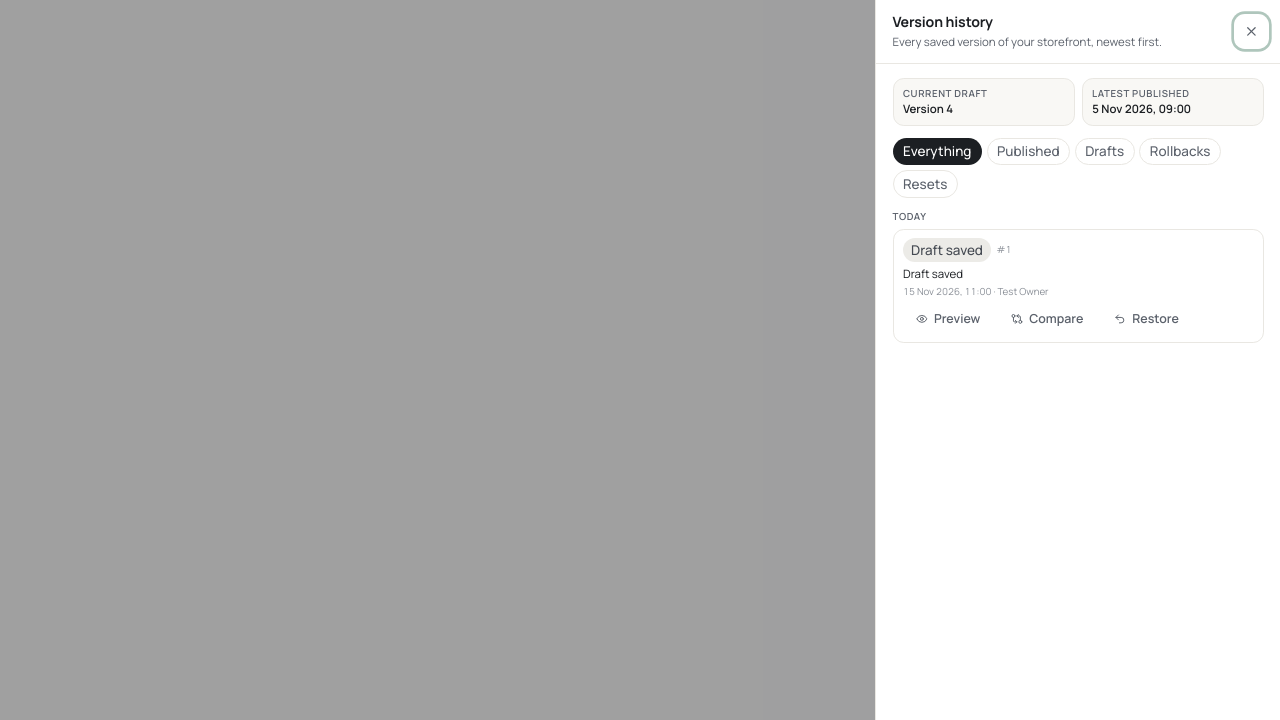
Test: RevisionHistoryPanel › keeps the dialog open and explains itself when a restore is refused
What coordinates should you click on to do the following:
click the button "Restore"
I would click on:
 (1147, 318)
Its box is [1101,303,1192,334].
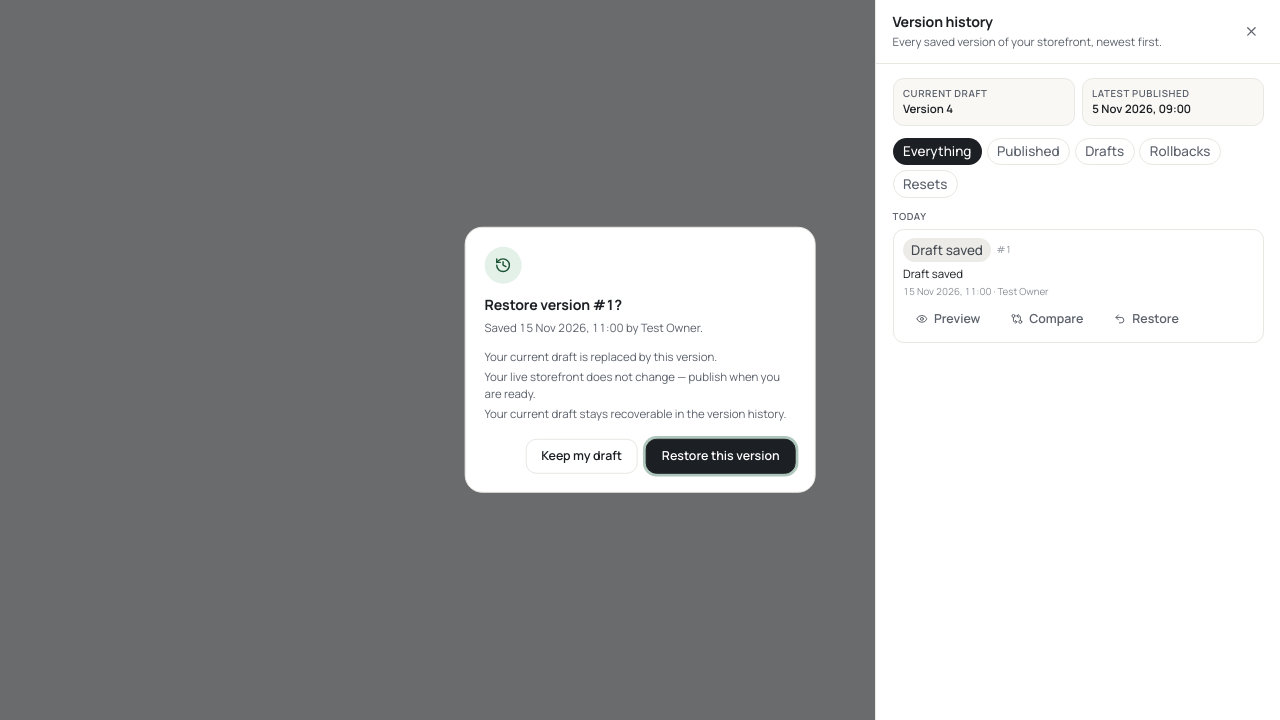
What coordinates should you click on to do the following:
click the button "Restore this version"
I would click on:
 (721, 456)
Its box is [646,438,796,473].
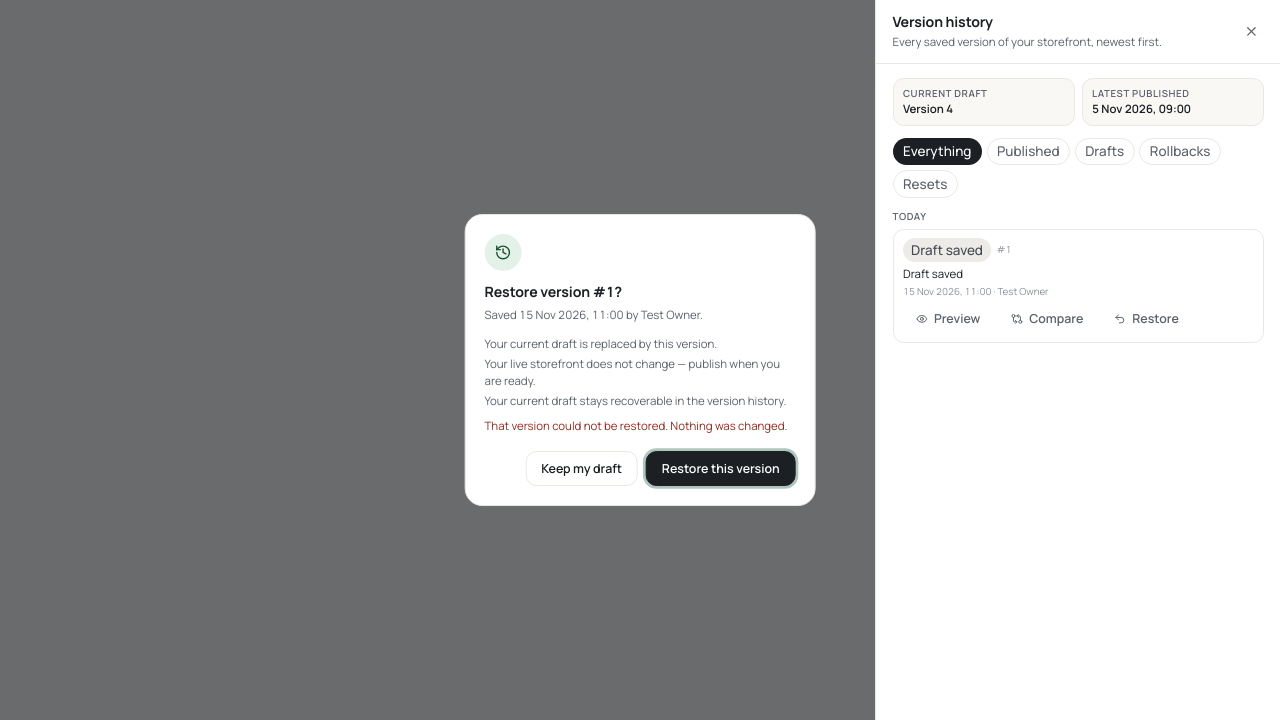
Expected: the text "Version 4" is shown, [903,101,953,116]
Result: the dialog "Restore version #1?" shows "That version could not be restored. Nothing was changed." at [484,418,788,433]
